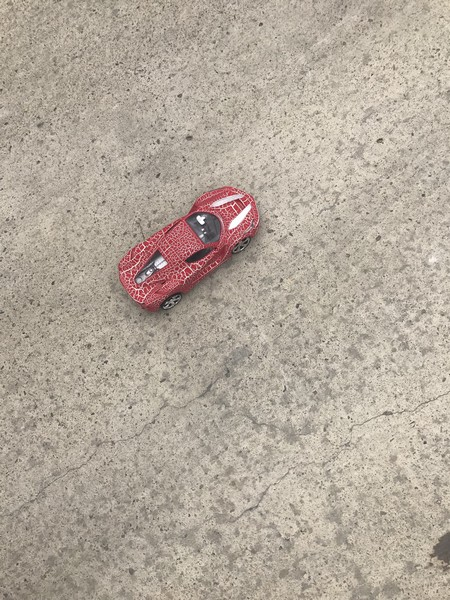RC: (115, 186, 263, 314)
